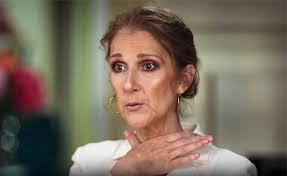person: (102, 1, 201, 130)
